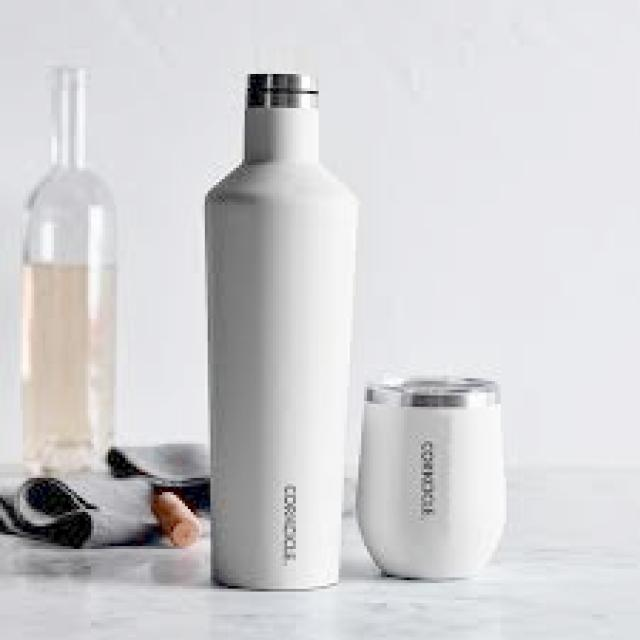bottle: (200, 73, 362, 586), (352, 373, 507, 580)
